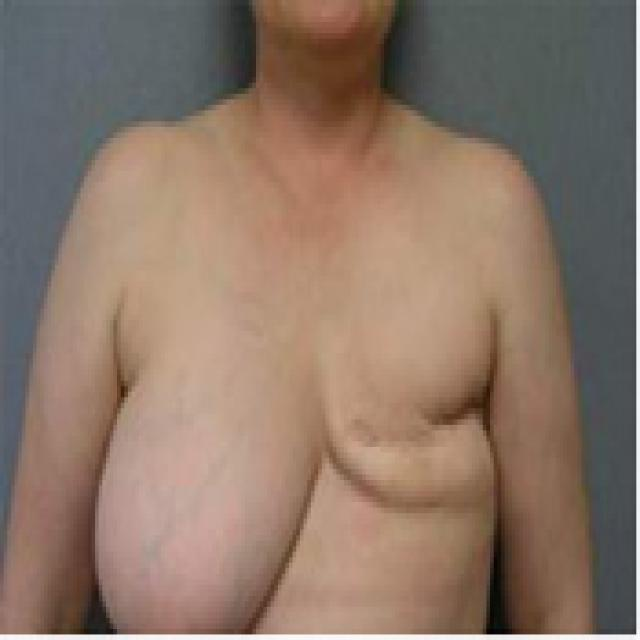Seno herido: (328, 289, 506, 526)
Seno ileso: (89, 289, 326, 632)
